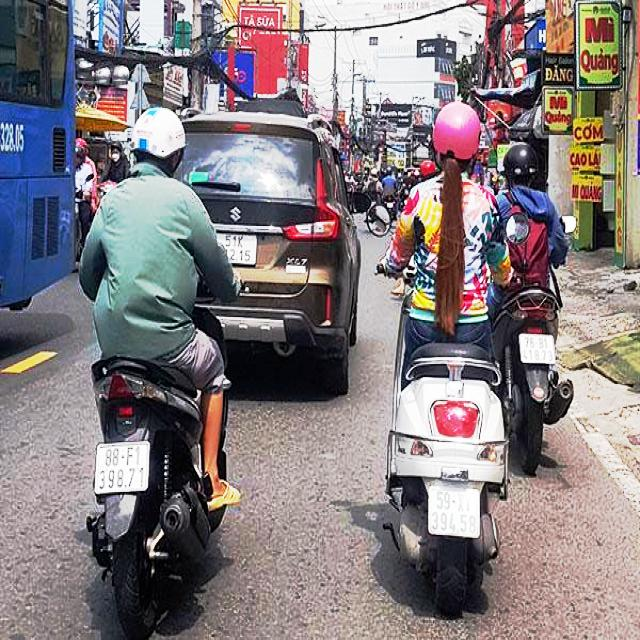license_plate: (429, 487, 482, 536), (96, 448, 150, 493), (521, 332, 556, 364)
